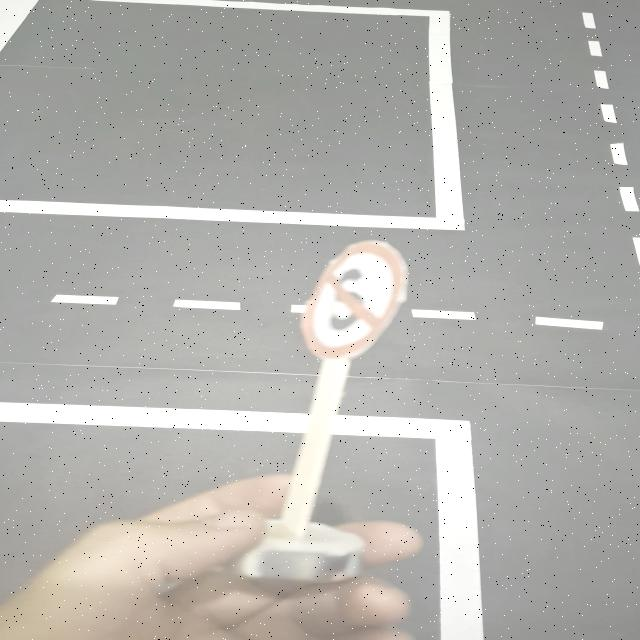Rambu Berhenti: (300, 240, 406, 361)
